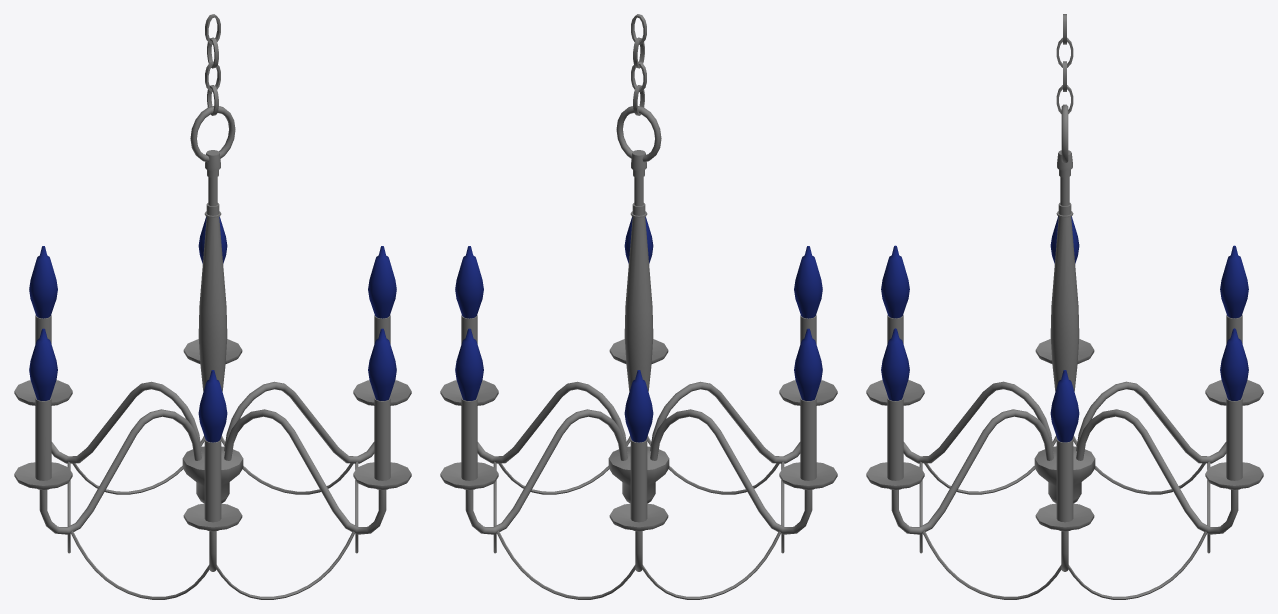
Rendered from Chandelier.fbx.
The picture shows the model from 3 angles, left to right: view 1: azimuth 30°, elevation 25°; view 2: azimuth 150°, elevation 25°; view 3: azimuth 270°, elevation 25°; orthographic projection.
Parts seen in each view (by area): view 1: Chandelier02Body, ChandelierArmB006, ChandelierArmB005, ChandelierArmB007, ChandelierArmA005, ChandelierArmA007, ChandelierArmA01, ChandelierArmA004, ChandelierBulp004, ChandelierBulp006, ChandelierBulp005, ChandelierBulp001 (+7 smaller); view 2: Chandelier02Body, ChandelierArmB004, ChandelierArmB003, ChandelierArmB005, ChandelierArmA003, ChandelierArmA005, ChandelierArmA01, ChandelierArmA006, ChandelierBulp002, ChandelierBulp004, ChandelierBulp003, ChandelierBulp001 (+7 smaller); view 3: Chandelier02Body, ChandelierArmB01, ChandelierArmB003, ChandelierArmB007, ChandelierArmA003, ChandelierArmA007, ChandelierArmA004, ChandelierArmA006, ChandelierBulp003, ChandelierBulp005, ChandelierBulp002, ChandelierBulp006 (+6 smaller).
Part boxes in pixels (x1=…): Chandelier02Body: x1=182, y1=150, x2=243, y2=503; ChandelierArmB006: x1=183, y1=439, x2=242, y2=531; ChandelierArmB005: x1=14, y1=397, x2=72, y2=490; ChandelierArmB007: x1=353, y1=397, x2=411, y2=490; ChandelierArmA005: x1=39, y1=409, x2=201, y2=534; ChandelierArmA007: x1=224, y1=409, x2=386, y2=534; ChandelierArmA01: x1=224, y1=381, x2=374, y2=463; ChandelierArmA004: x1=51, y1=381, x2=201, y2=463; ChandelierBulp004: x1=29, y1=328, x2=57, y2=400; ChandelierBulp006: x1=368, y1=328, x2=396, y2=400; ChandelierBulp005: x1=198, y1=370, x2=227, y2=442; ChandelierBulp001: x1=368, y1=246, x2=396, y2=318; Chandelier02Body: x1=608, y1=150, x2=669, y2=503; ChandelierArmB004: x1=609, y1=439, x2=668, y2=531; ChandelierArmB003: x1=440, y1=397, x2=498, y2=490; ChandelierArmB005: x1=779, y1=397, x2=837, y2=490; ChandelierArmA003: x1=465, y1=409, x2=627, y2=534; ChandelierArmA005: x1=650, y1=409, x2=812, y2=534; ChandelierArmA01: x1=477, y1=381, x2=627, y2=463; ChandelierArmA006: x1=650, y1=381, x2=800, y2=463; ChandelierBulp002: x1=455, y1=328, x2=483, y2=400; ChandelierBulp004: x1=794, y1=328, x2=822, y2=400; ChandelierBulp003: x1=624, y1=370, x2=653, y2=442; ChandelierBulp001: x1=455, y1=246, x2=483, y2=318; Chandelier02Body: x1=1034, y1=150, x2=1095, y2=503; ChandelierArmB01: x1=1035, y1=439, x2=1094, y2=531; ChandelierArmB003: x1=1205, y1=397, x2=1263, y2=490; ChandelierArmB007: x1=866, y1=397, x2=924, y2=490; ChandelierArmA003: x1=1076, y1=409, x2=1238, y2=534; ChandelierArmA007: x1=891, y1=409, x2=1053, y2=534; ChandelierArmA004: x1=1076, y1=381, x2=1226, y2=463; ChandelierArmA006: x1=903, y1=381, x2=1053, y2=463; ChandelierBulp003: x1=1220, y1=245, x2=1248, y2=318; ChandelierBulp005: x1=881, y1=245, x2=909, y2=318; ChandelierBulp002: x1=1220, y1=328, x2=1248, y2=400; ChandelierBulp006: x1=881, y1=328, x2=909, y2=400.
Size of the model in its own units: 41.81 by 54.35 by 36.93.
